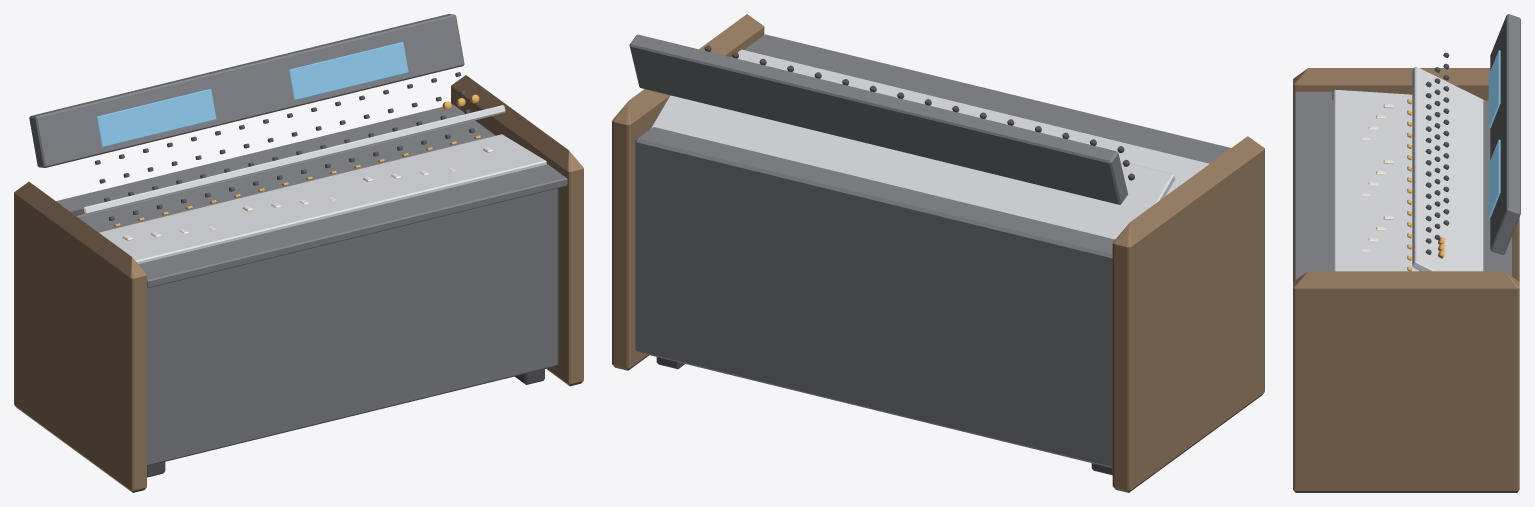
File: console-timber.glb
3 views of the same model, side by side, from view 1: azimuth 30°, elevation 25°; view 2: azimuth 150°, elevation 25°; view 3: azimuth 270°, elevation 25° (orthographic). The views are drawn at different scales.
Visible parts, largest first — view 1: mixing-desk; view 2: mixing-desk; view 3: mixing-desk.
Boxes of the visible parts, x1=… form: mixing-desk: x1=14, y1=14, x2=583, y2=492; mixing-desk: x1=612, y1=14, x2=1264, y2=492; mixing-desk: x1=1293, y1=14, x2=1520, y2=492.
Size of the model in its own units: 1.98 by 1.22 by 0.9046.
